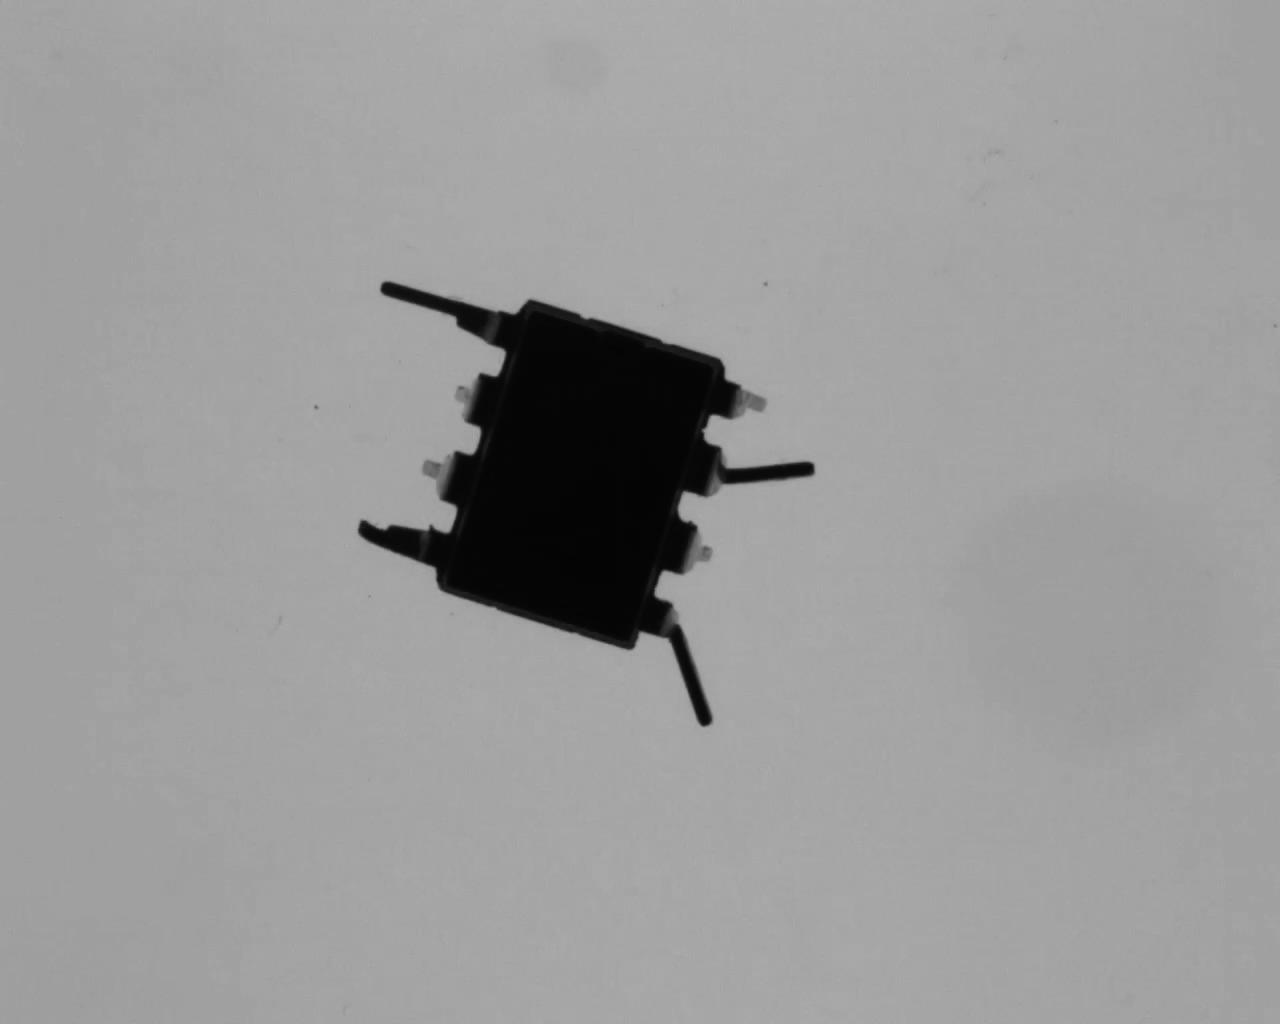Leg: (376, 274, 525, 353), (645, 590, 716, 730), (679, 439, 820, 501), (349, 511, 453, 575), (419, 448, 482, 511), (449, 365, 506, 433), (659, 514, 716, 577), (712, 370, 771, 424)
